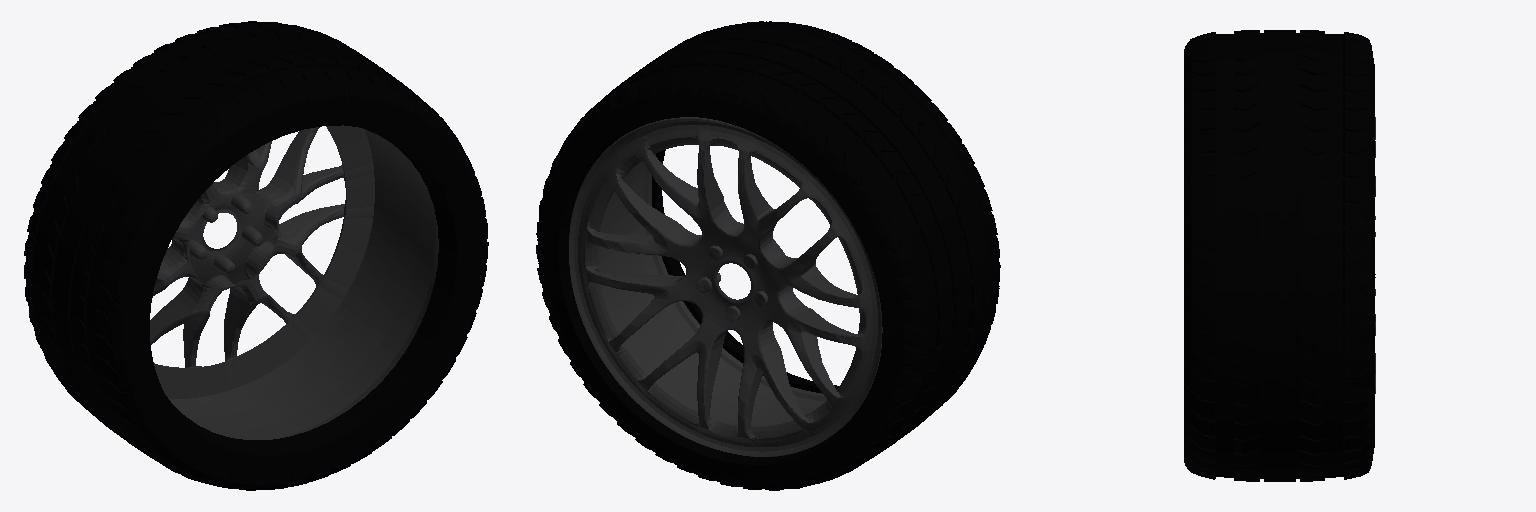
The model's file is wheel_r.obj.
3 views of the same model, side by side, from view 1: azimuth 30°, elevation 25°; view 2: azimuth 150°, elevation 25°; view 3: azimuth 270°, elevation 25° (orthographic).
Visible parts, largest first — view 1: Tire3_TireBolts_Dupli_002; view 2: Tire3_TireBolts_Dupli_002; view 3: Tire3_TireBolts_Dupli_002.
Boxes of the visible parts, x1=… form: Tire3_TireBolts_Dupli_002: x1=24, y1=21, x2=488, y2=490; Tire3_TireBolts_Dupli_002: x1=536, y1=21, x2=1000, y2=490; Tire3_TireBolts_Dupli_002: x1=1184, y1=30, x2=1375, y2=481.
Bounding box in the file's own units: 0.9825 × 0.9826 × 0.4185.